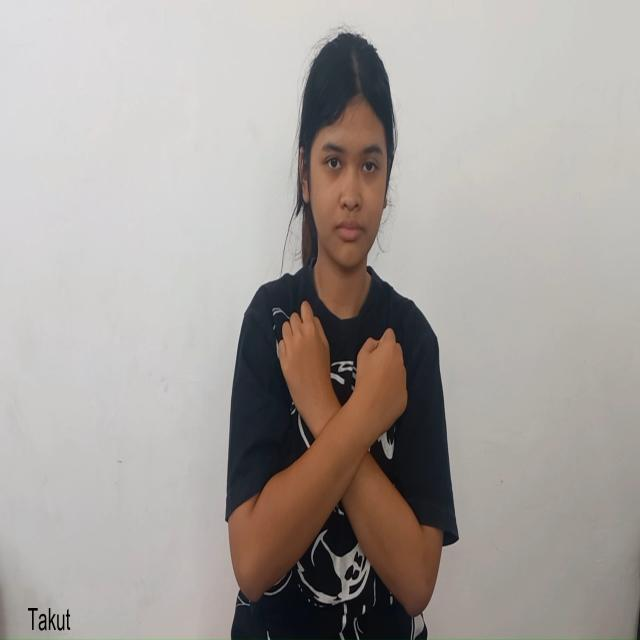Takut -BISINDO-: (253, 298, 422, 619)
